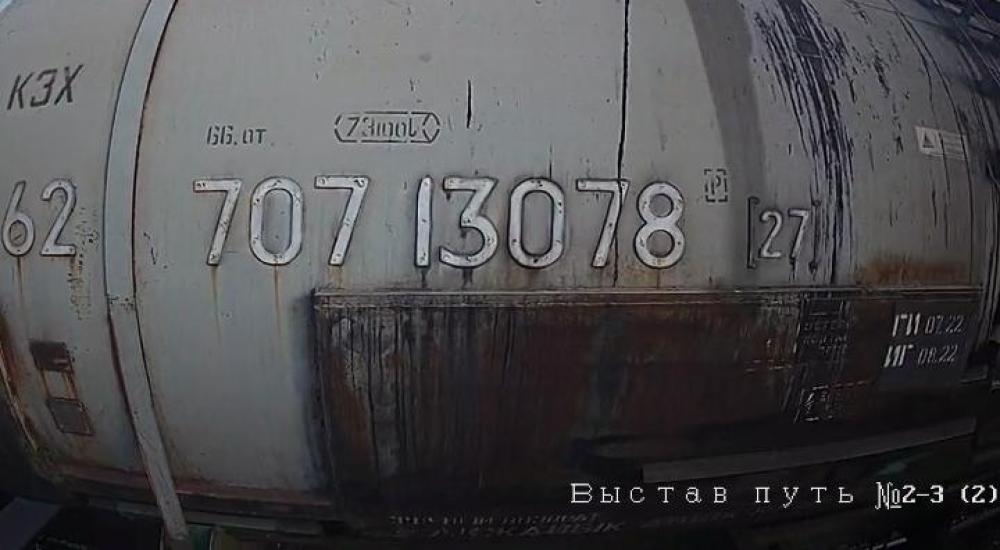Wagon-number: (190, 168, 692, 275)
